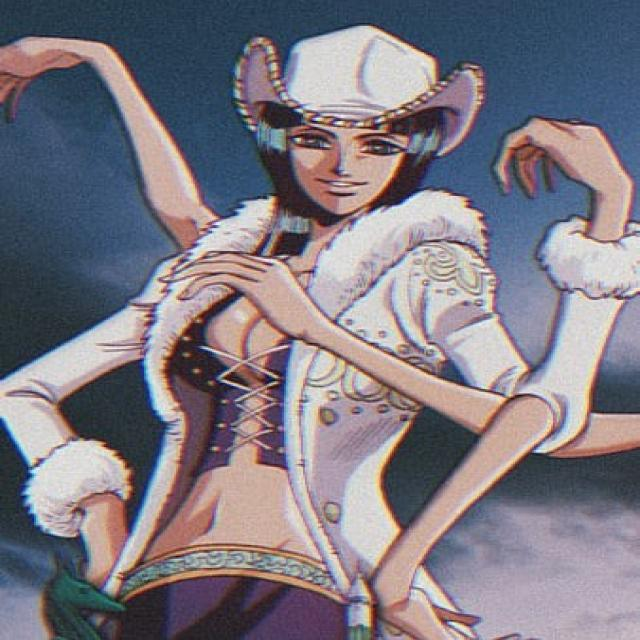Robin: (0, 26, 640, 640)
